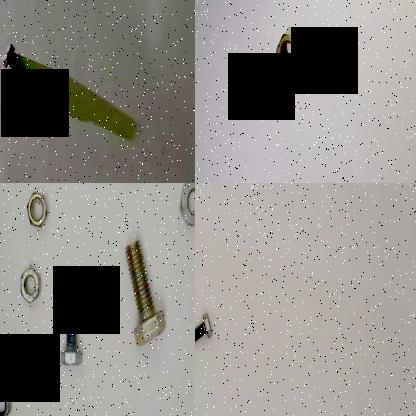Bolts: (118, 231, 170, 353), (0, 39, 29, 87), (195, 309, 215, 349)
NUTS: (273, 29, 301, 80), (20, 186, 50, 233), (17, 259, 42, 311), (171, 183, 195, 233), (0, 381, 13, 416)
